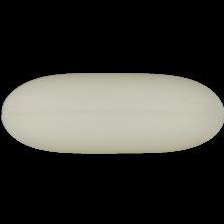67046-805: (0, 0, 224, 224)
